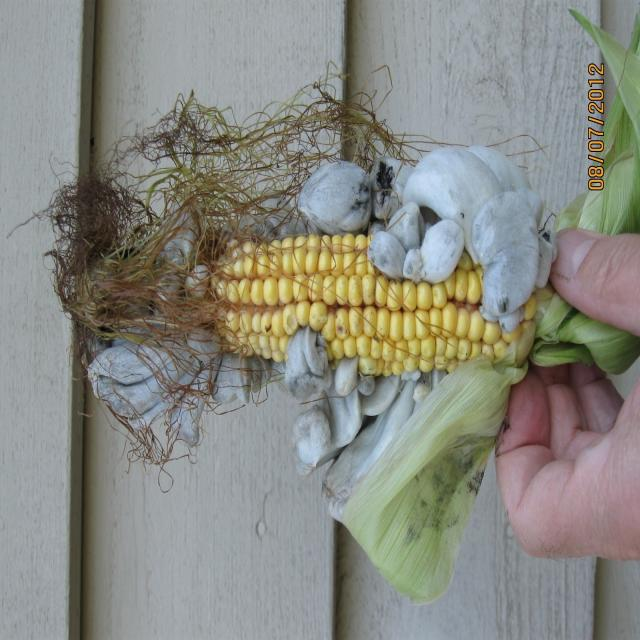Leaf_Scald: (50, 59, 597, 516)
